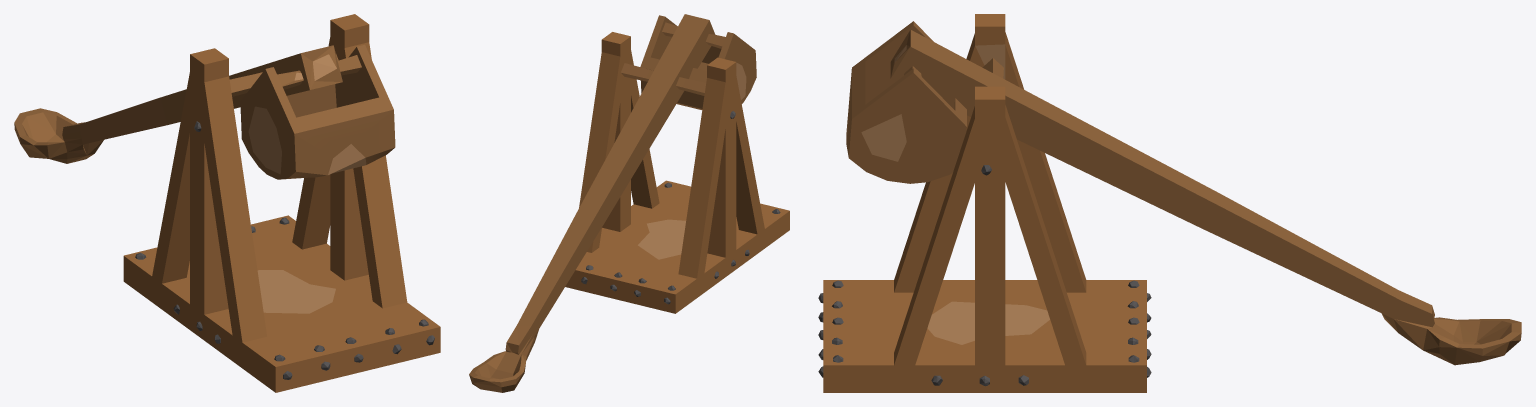
File: LPSWP_Trebuchet02.fbx
3 views of the same model, side by side, from view 1: azimuth 30°, elevation 25°; view 2: azimuth 150°, elevation 25°; view 3: azimuth 270°, elevation 25° (orthographic). The views are drawn at different scales.
Parts seen in each view (by area): view 1: LPSWP_Trebuchet02, LPSWP_Trebuchet02_BalanceBasket, LPSWP_Trebuchet02_Handle; view 2: LPSWP_Trebuchet02, LPSWP_Trebuchet02_Handle, LPSWP_Trebuchet02_BalanceBasket; view 3: LPSWP_Trebuchet02, LPSWP_Trebuchet02_Handle, LPSWP_Trebuchet02_BalanceBasket.
Part boxes in pixels (x1=…): LPSWP_Trebuchet02: x1=123, y1=14, x2=440, y2=392; LPSWP_Trebuchet02_BalanceBasket: x1=240, y1=44, x2=395, y2=179; LPSWP_Trebuchet02_Handle: x1=14, y1=45, x2=342, y2=163; LPSWP_Trebuchet02: x1=565, y1=32, x2=789, y2=313; LPSWP_Trebuchet02_Handle: x1=469, y1=14, x2=715, y2=392; LPSWP_Trebuchet02_BalanceBasket: x1=640, y1=15, x2=756, y2=109; LPSWP_Trebuchet02: x1=818, y1=14, x2=1151, y2=392; LPSWP_Trebuchet02_Handle: x1=890, y1=29, x2=1521, y2=365; LPSWP_Trebuchet02_BalanceBasket: x1=846, y1=21, x2=966, y2=183.
Bounding box in the file's own units: 2.44 × 3.98 × 8.02.
